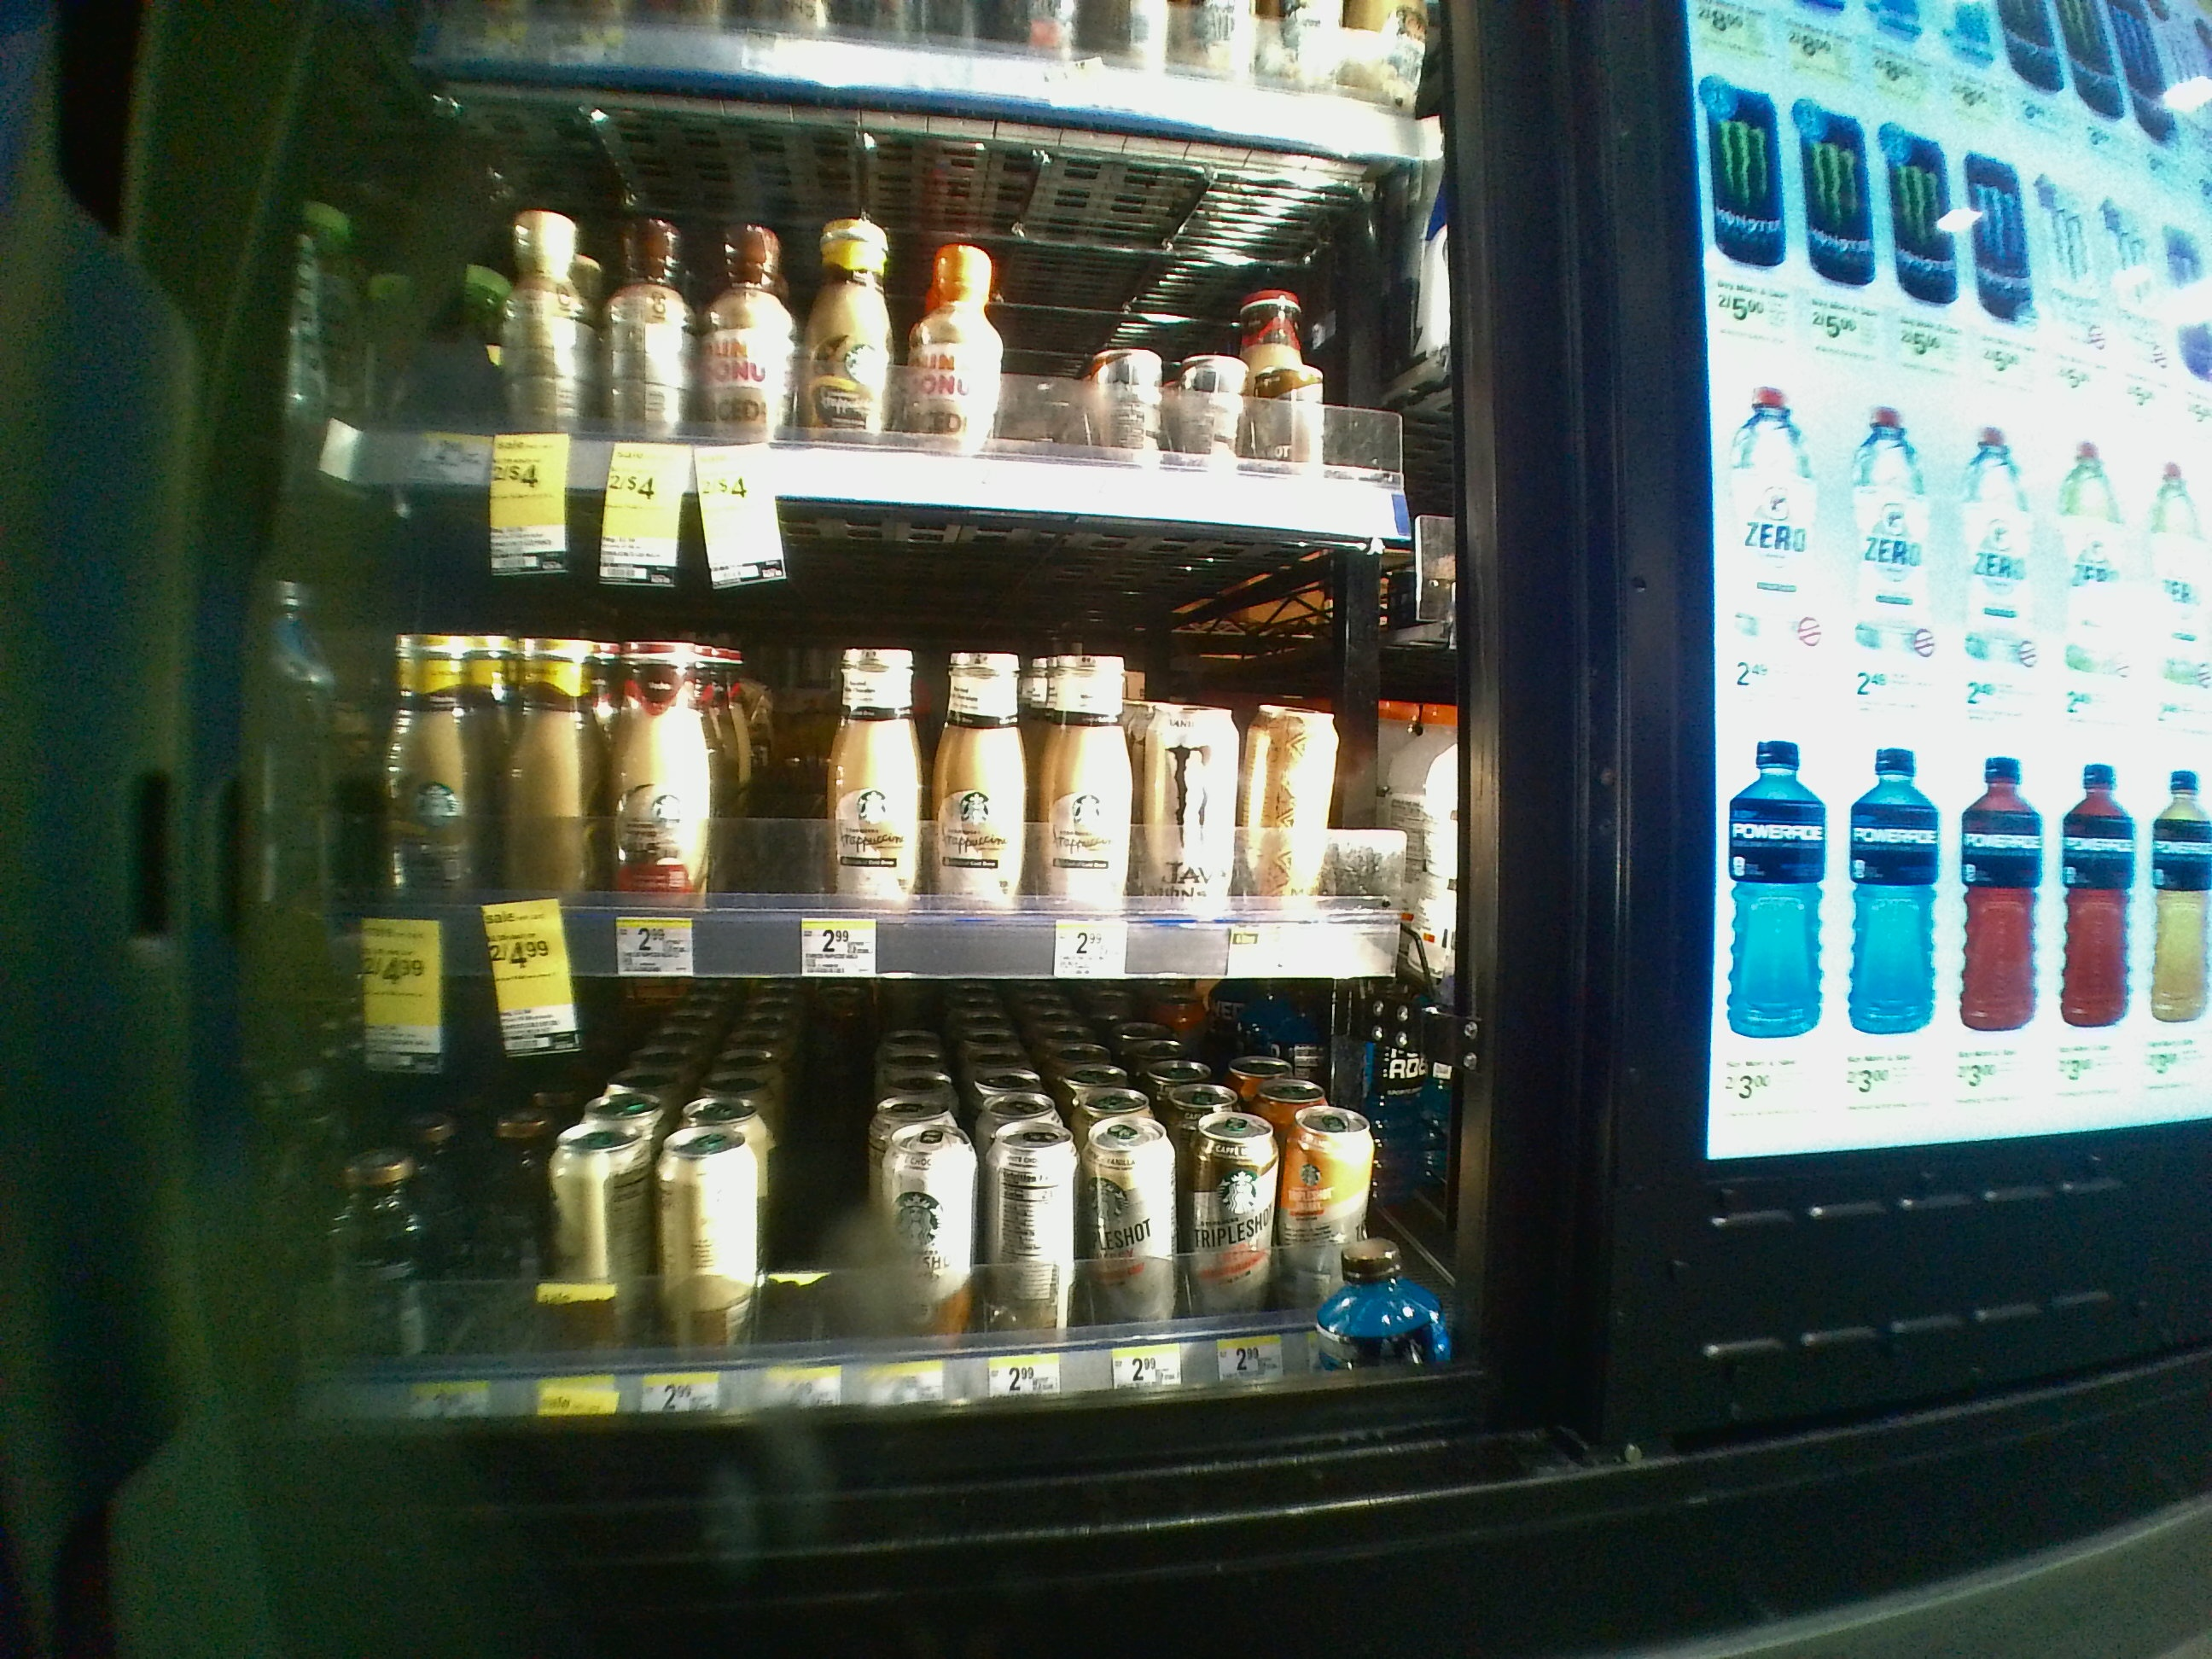shelf: (345, 491, 1461, 979), (333, 976, 1456, 1436)
